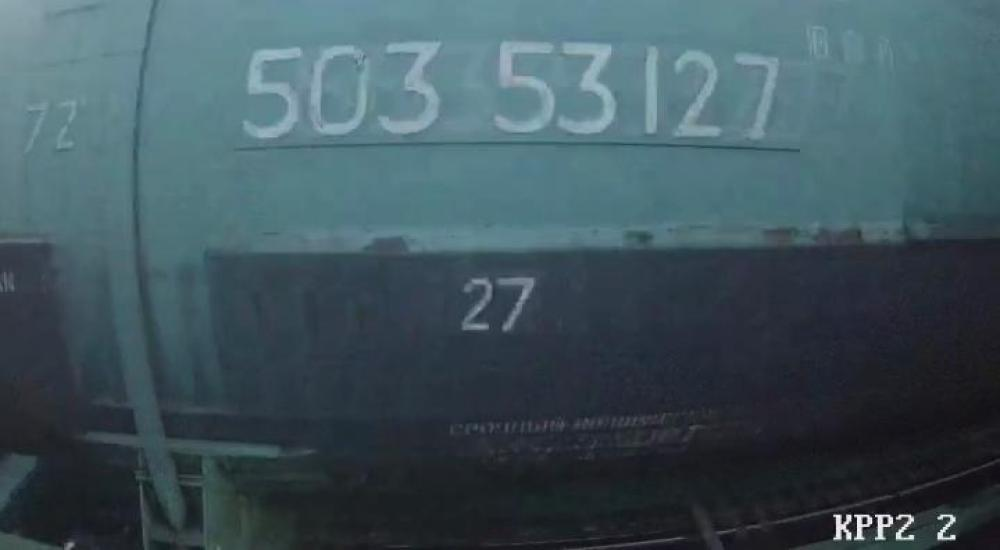Wagon-number: (236, 38, 794, 152)
